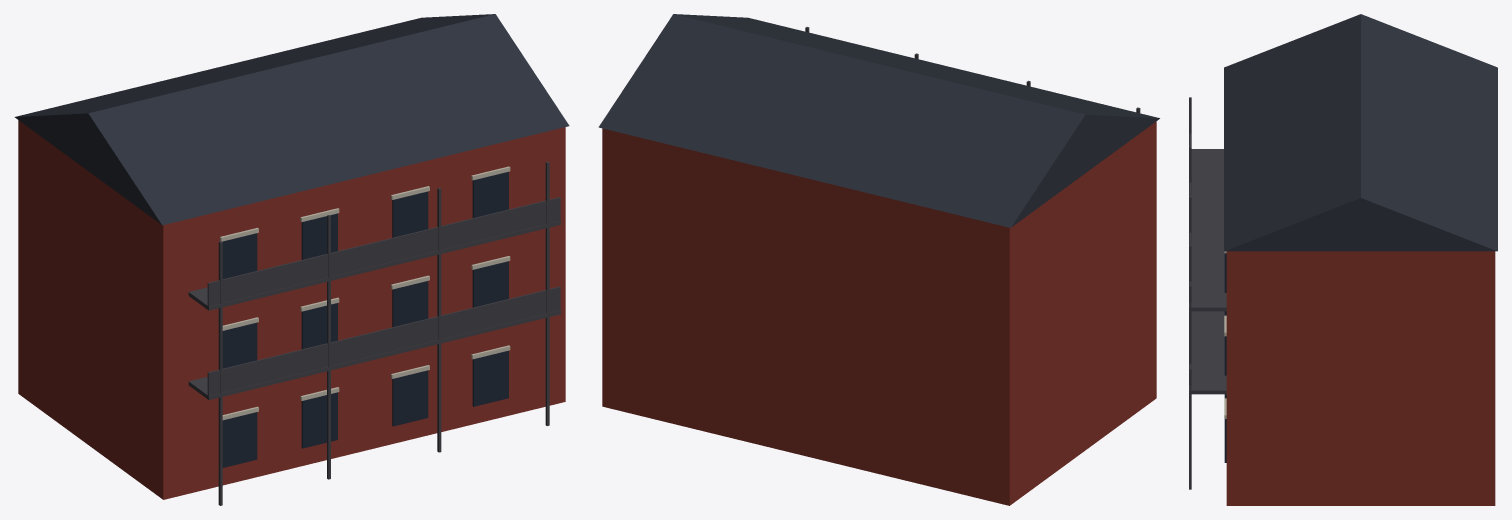
The model's file is building_westyork_s3_industrial_flats.glb.
The picture shows the model from 3 angles, left to right: view 1: azimuth 30°, elevation 25°; view 2: azimuth 150°, elevation 25°; view 3: azimuth 270°, elevation 25°; orthographic projection. The views are drawn at different scales.
Parts seen in each view (by area): view 1: building_westyork_s3_industrial_flats; view 2: building_westyork_s3_industrial_flats; view 3: building_westyork_s3_industrial_flats.
Part boxes in pixels (x1,y1,x2,y2): building_westyork_s3_industrial_flats: [14, 14, 569, 505]; building_westyork_s3_industrial_flats: [598, 14, 1159, 505]; building_westyork_s3_industrial_flats: [1189, 14, 1497, 505].
Size of the model in its own units: 16.2 by 12.7 by 11.5.
1 material, 1 textured.
